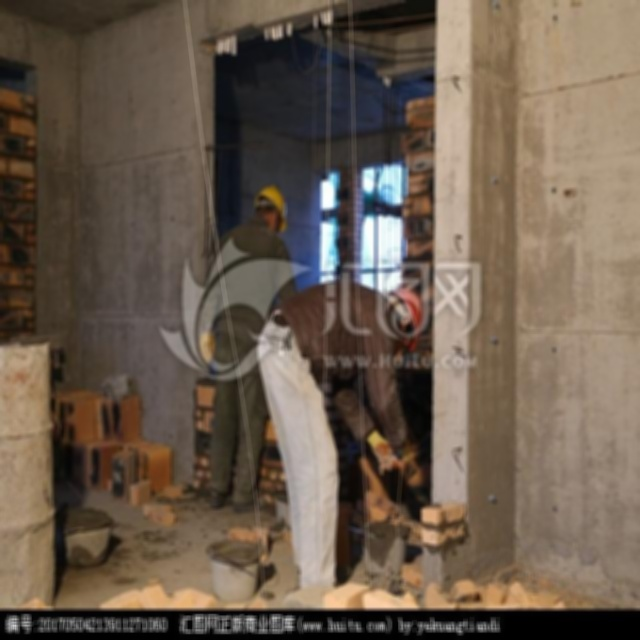Con_Casco: (255, 185, 289, 231)
